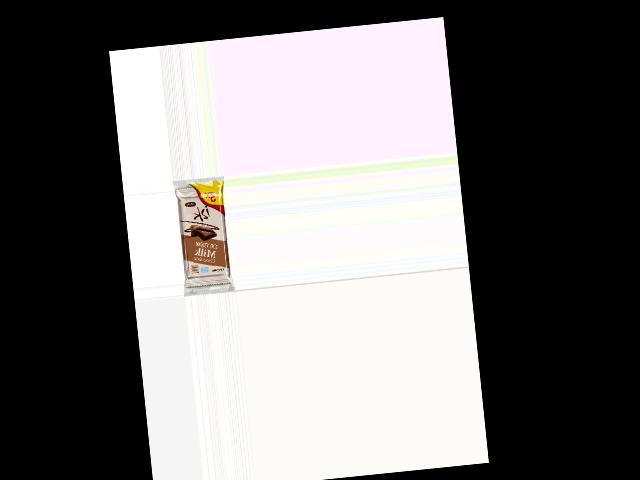chocolate: (171, 175, 233, 285)
